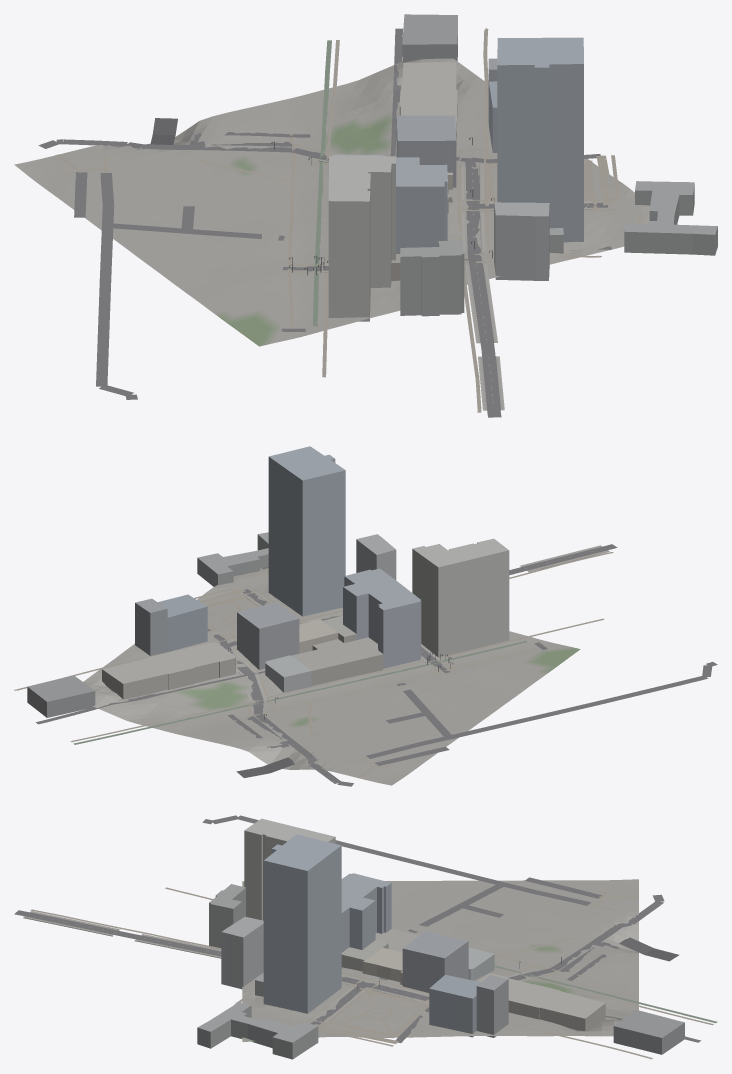
Rendered from tile_-2_-1.glb.
3 views of the same model, one above another, from view 1: azimuth 30°, elevation 25°; view 2: azimuth 150°, elevation 25°; view 3: azimuth 270°, elevation 25° (orthographic). The views are drawn at different scales.
Visible parts, largest first — view 1: terrain, buildings, roads, paths, sidewalks; view 2: buildings, terrain, roads, paths, sidewalks; view 3: buildings, terrain, roads, paths, sidewalks.
Part boxes in pixels (<box>): terrain: <box>14,58,650,346</box>; buildings: <box>328,14,717,321</box>; roads: <box>38,28,611,417</box>; paths: <box>55,28,647,412</box>; sidewalks: <box>319,153,592,410</box>; buildings: <box>27,446,509,717</box>; terrain: <box>83,568,580,785</box>; roads: <box>36,544,717,786</box>; paths: <box>14,552,613,778</box>; sidewalks: <box>230,545,609,702</box>; buildings: <box>197,818,684,1059</box>; terrain: <box>242,879,638,1041</box>; roads: <box>14,815,701,1042</box>; paths: <box>30,887,717,1059</box>; sidewalks: <box>23,911,531,1021</box>.
Size of the model in its own units: 390 by 116 by 455.
